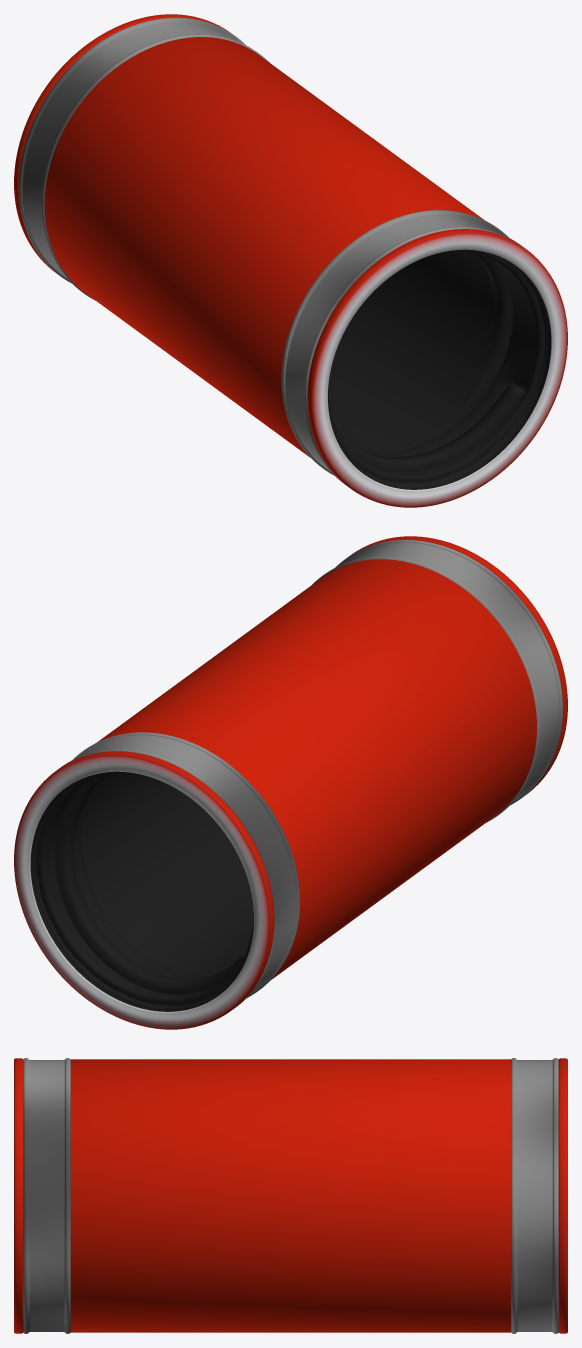
File: Муфта.fbx
The picture shows the model from 3 angles, top to bottom: view 1: azimuth 30°, elevation 25°; view 2: azimuth 150°, elevation 25°; view 3: azimuth 270°, elevation 25°; orthographic projection. The views are drawn at different scales.
Visible parts, largest first — view 1: Cylinder.014, Cylinder.024; view 2: Cylinder.014, Cylinder.024; view 3: Cylinder.014, Cylinder.024.
Part boxes in pixels (bbox=[...]): Cylinder.014: bbox=[14, 14, 567, 507]; Cylinder.024: bbox=[18, 17, 522, 486]; Cylinder.014: bbox=[14, 536, 567, 1029]; Cylinder.024: bbox=[59, 539, 562, 1008]; Cylinder.014: bbox=[14, 1058, 567, 1333]; Cylinder.024: bbox=[23, 1058, 558, 1333].
Bounding box in the file's own units: 9.96 × 9.96 × 20.
1 material, 1 textured.
